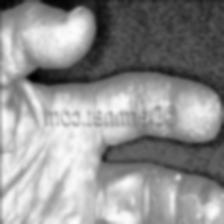Non-Cancerous Skin Condition: (164, 87, 218, 144), (31, 13, 92, 55), (170, 186, 223, 224)
